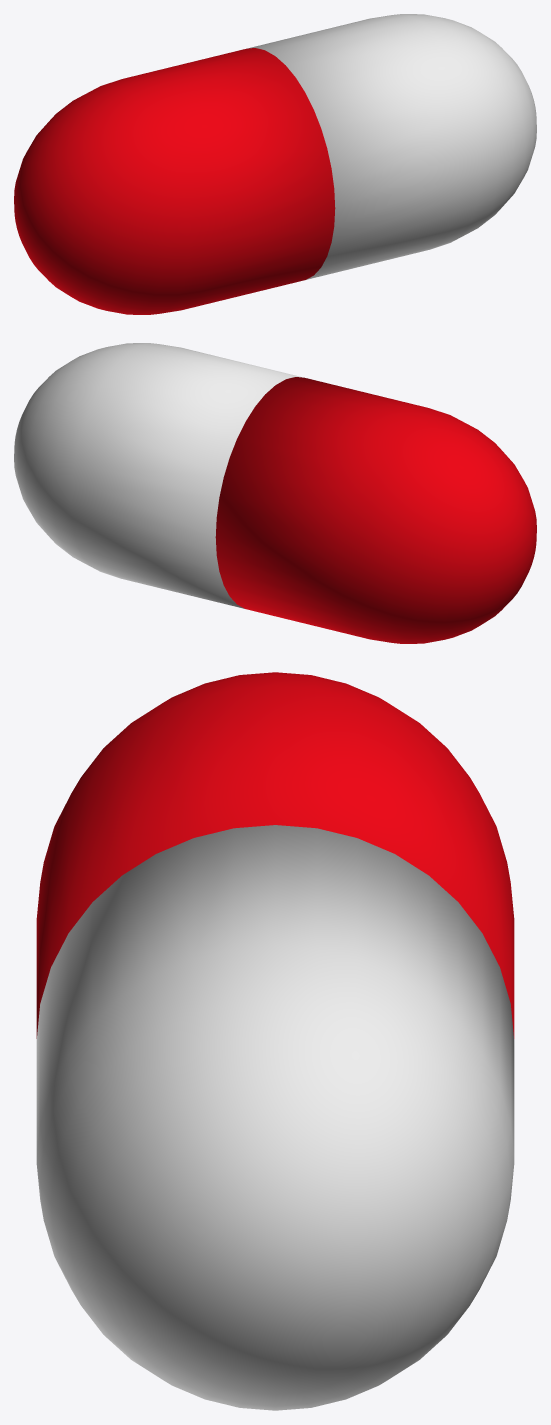
Rendered from ilaç kapsül_1 1.fbx.
The picture shows the model from 3 angles, top to bottom: view 1: azimuth 30°, elevation 25°; view 2: azimuth 150°, elevation 25°; view 3: azimuth 270°, elevation 25°; orthographic projection. The views are drawn at different scales.
Parts seen in each view (by area): view 1: obj_0; view 2: obj_0; view 3: obj_0.
Part boxes in pixels (x1,y1,x2,y2): obj_0: (14, 14, 536, 314); obj_0: (14, 343, 536, 643); obj_0: (36, 672, 514, 1410).
Size of the model in its own units: 175 by 73.04 by 73.04.
